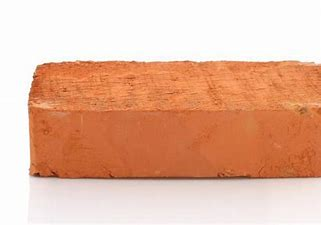brick: (28, 57, 321, 182)
